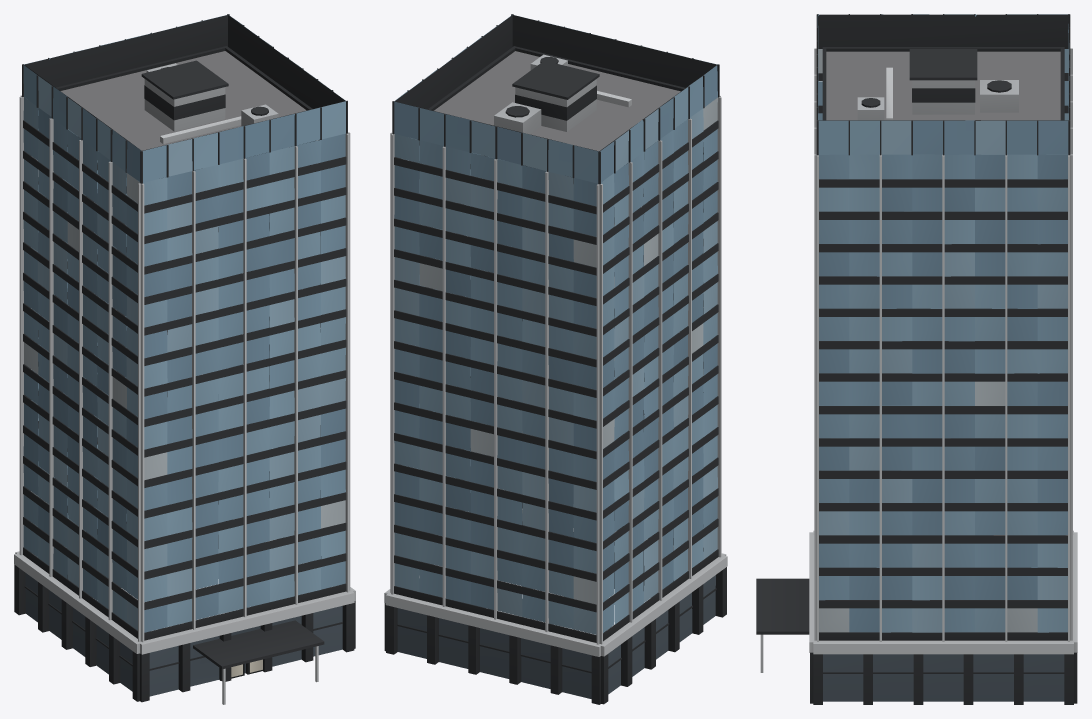
File: bureau1.glb
3 renders of one model, left to right at view 1: azimuth 30°, elevation 25°; view 2: azimuth 150°, elevation 25°; view 3: azimuth 270°, elevation 25°, orthographic. The views are drawn at different scales.
Visible parts, largest first — view 1: bureau1; view 2: bureau1; view 3: bureau1.
Boxes of the visible parts, x1,y1,x2,y2 form: bureau1: [14, 14, 355, 704]; bureau1: [384, 14, 727, 704]; bureau1: [756, 14, 1077, 704].
Bounding box in the file's own units: 27.8 × 66.89 × 33.3.
